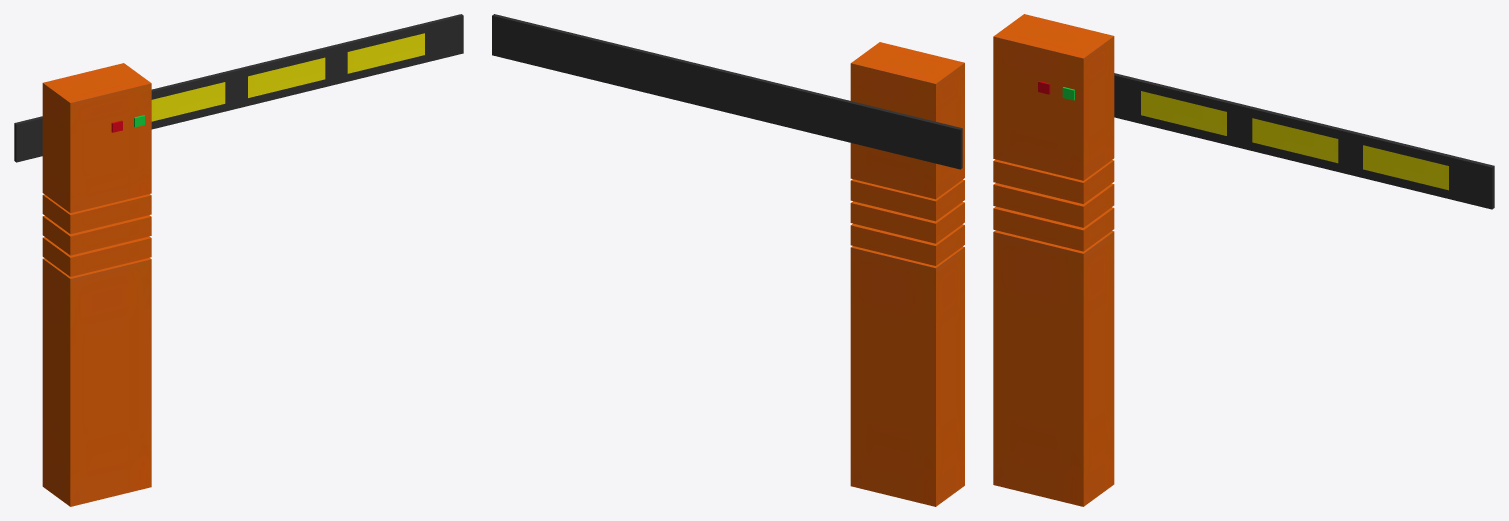
3 views of the same model, side by side, from view 1: azimuth 30°, elevation 25°; view 2: azimuth 150°, elevation 25°; view 3: azimuth 330°, elevation 25° (orthographic). The views are drawn at different scales.
Parts seen in each view (by area): view 1: Lo-Body_01; view 2: Lo-Body_01; view 3: Lo-Body_01.
Part boxes in pixels (x1,y1,x2,y2): Lo-Body_01: (14,14,463,506); Lo-Body_01: (492,14,964,506); Lo-Body_01: (993,14,1494,506).
Bounding box in the file's own units: 1.16 × 1 × 0.1408.
Materials: 1 (1 with a texture image).
